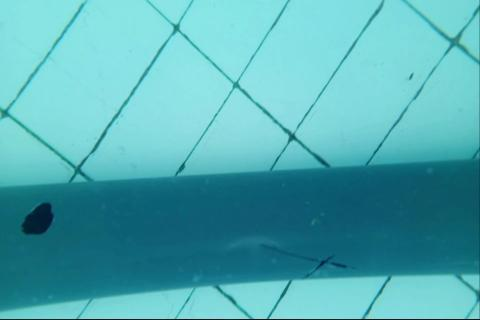kebocoran: (19, 200, 56, 236)
keretakan: (265, 245, 347, 277)
